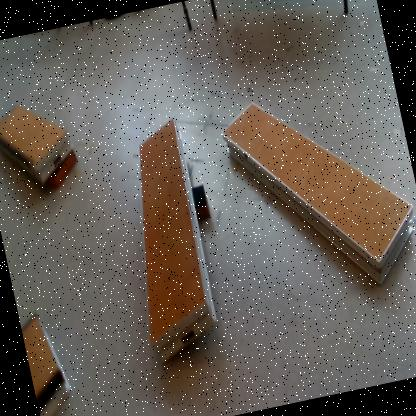Stairs: (221, 102, 415, 287), (139, 116, 217, 363), (1, 103, 76, 182), (22, 314, 74, 416)
